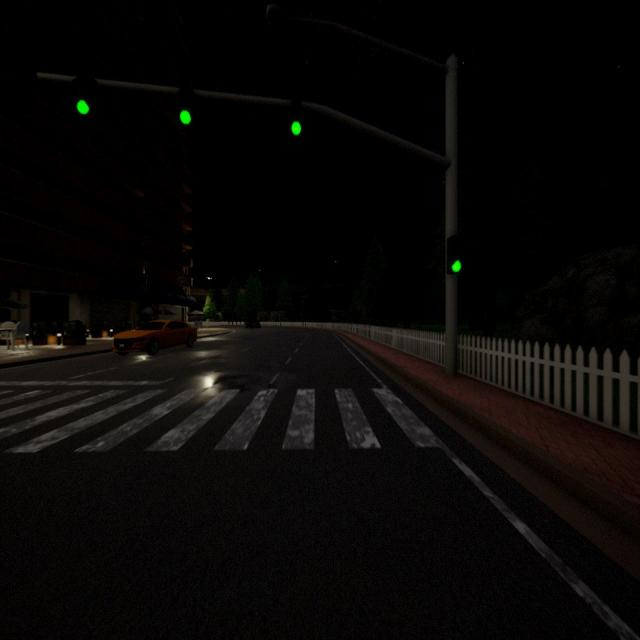Vehicle: (113, 320, 197, 355), (245, 320, 261, 328)
traffic_light: (72, 77, 100, 118), (447, 233, 461, 275), (180, 88, 195, 126), (291, 100, 302, 137)
